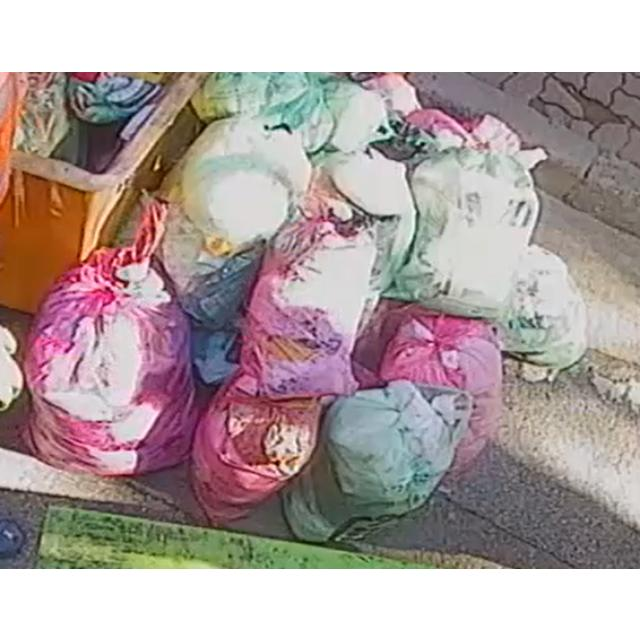general_trashbag: (161, 116, 313, 360), (283, 380, 471, 549), (386, 148, 539, 317), (304, 147, 416, 290), (193, 71, 343, 152), (496, 244, 585, 368), (330, 81, 387, 152)
other_trashbag: (194, 214, 376, 522), (25, 198, 197, 474), (354, 301, 503, 470), (191, 385, 323, 524)
